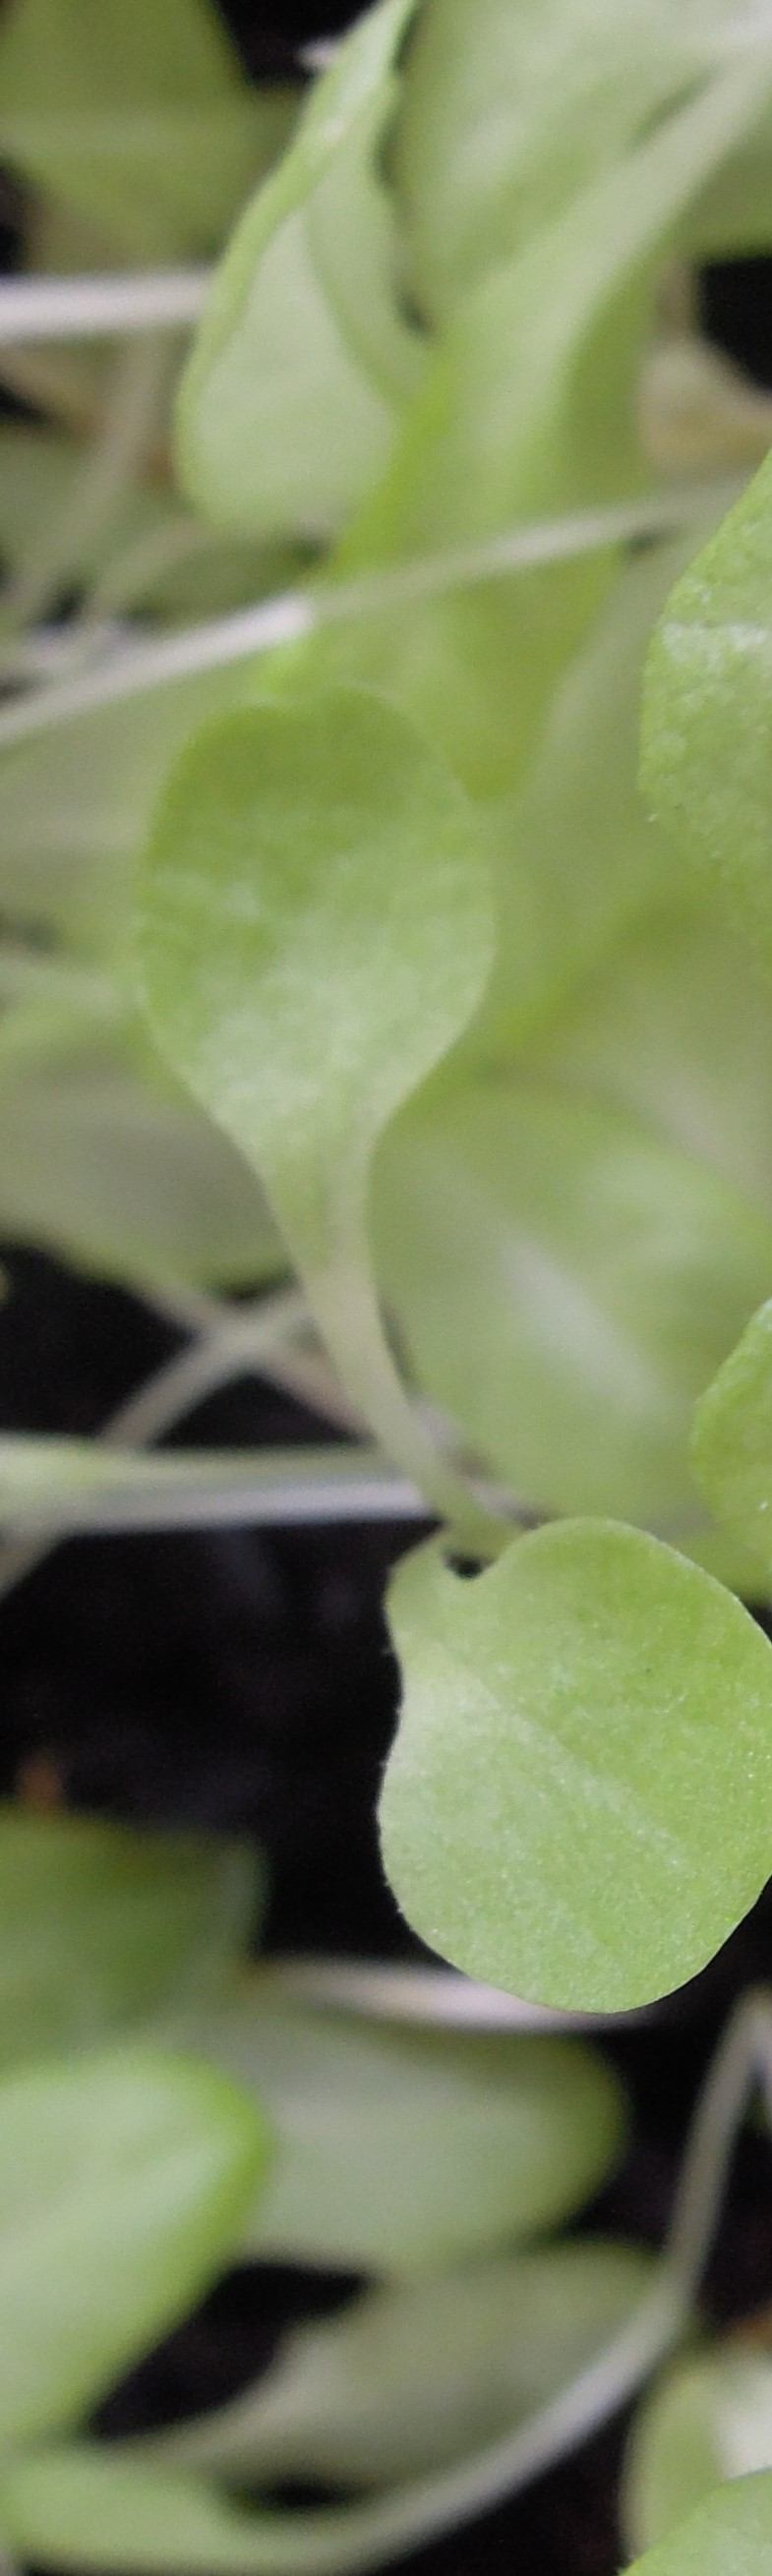week2: (118, 652, 585, 1525), (273, 1508, 759, 2137)
